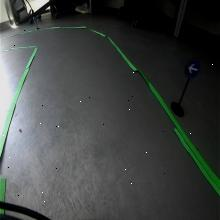left: (184, 58, 200, 78)
